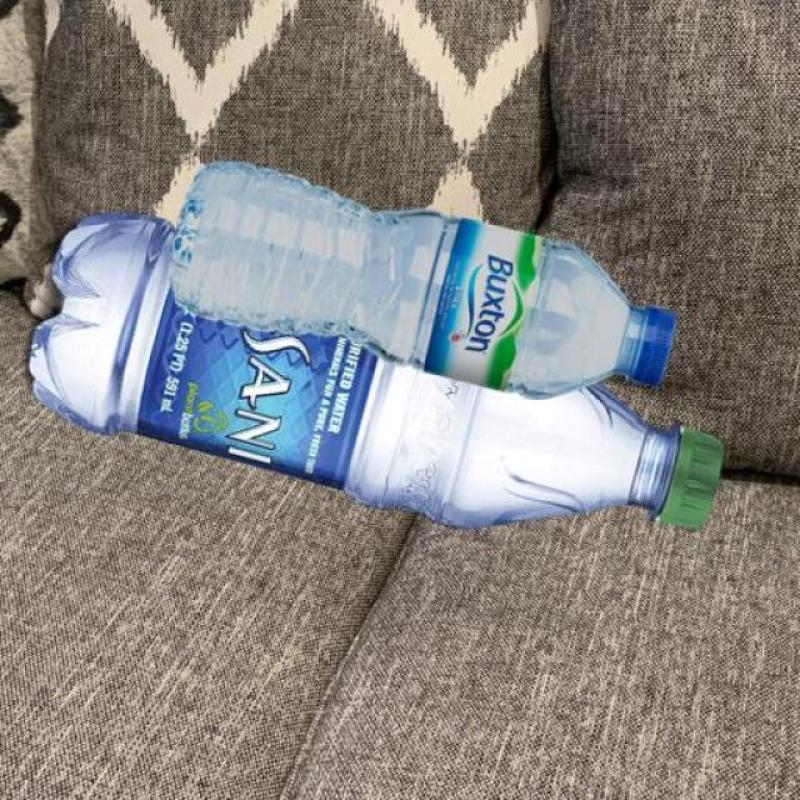botella: (26, 206, 726, 532), (173, 162, 672, 403)
